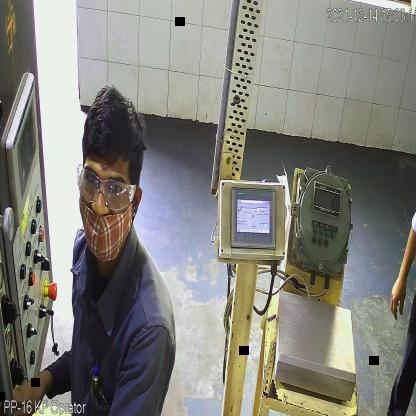goggles: (76, 164, 134, 210)
